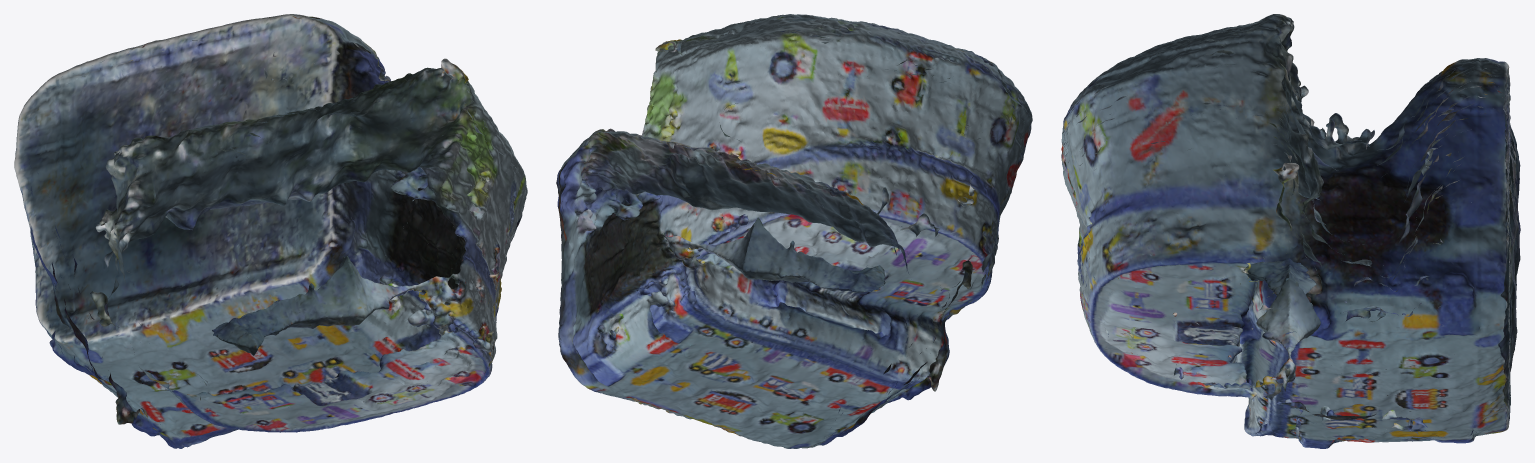
File: backpack.glb
3 renders of one model, left to right at view 1: azimuth 30°, elevation 25°; view 2: azimuth 150°, elevation 25°; view 3: azimuth 270°, elevation 25°, orthographic. The views are drawn at different scales.
Bounding box in the file's own units: 0.9047 × 0.7535 × 1.
